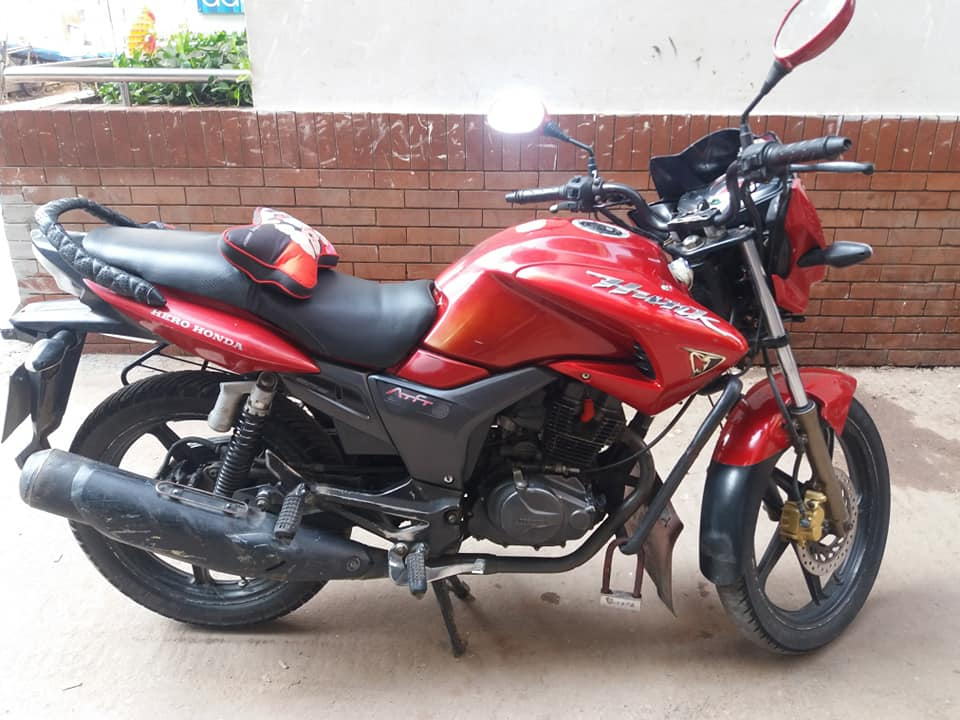bike: (1, 1, 894, 658)
